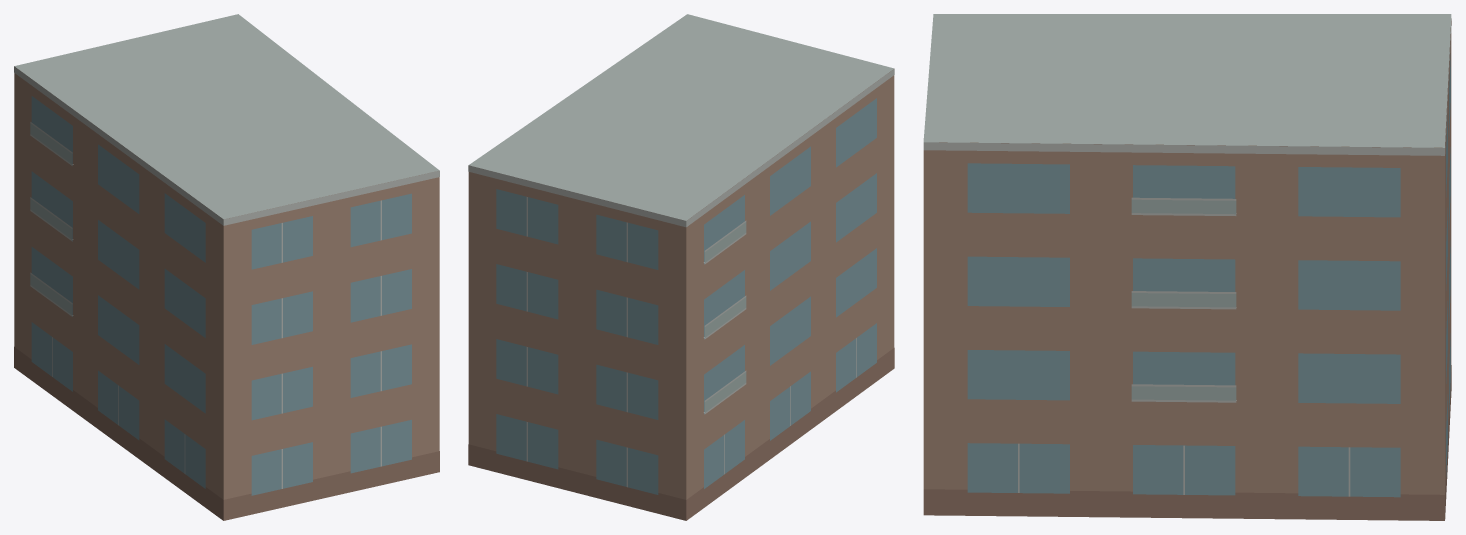
Rendered from survey-upis-32661665.glb.
The picture shows the model from 3 angles, left to right: view 1: azimuth 30°, elevation 25°; view 2: azimuth 150°, elevation 25°; view 3: azimuth 270°, elevation 25°; orthographic projection. The views are drawn at different scales.
Parts seen in each view (by area): view 1: survey-upis-32661665.tmp; view 2: survey-upis-32661665.tmp; view 3: survey-upis-32661665.tmp.
Boxes of the visible parts, left/top/right/bottom form: survey-upis-32661665.tmp: left=14, top=14, right=439, bottom=520; survey-upis-32661665.tmp: left=468, top=14, right=894, bottom=520; survey-upis-32661665.tmp: left=923, top=14, right=1451, bottom=520.
Bounding box in the file's own units: 8.73 × 11.3 × 14.51.
